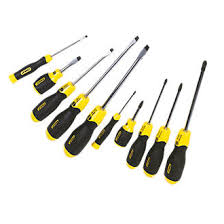screwdriver: (44, 19, 152, 162)
